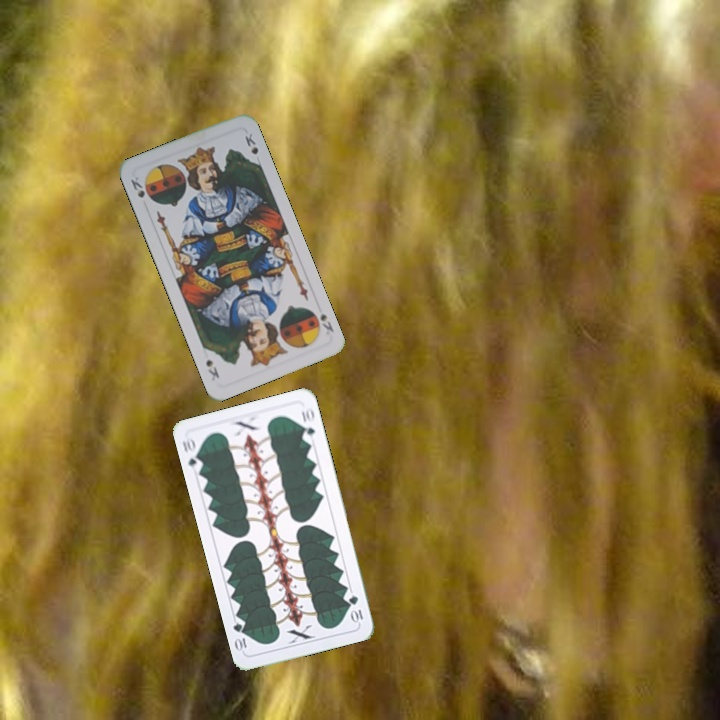G10: (178, 433, 205, 474), (345, 591, 366, 625)
SK: (126, 172, 147, 201), (316, 309, 337, 337)
